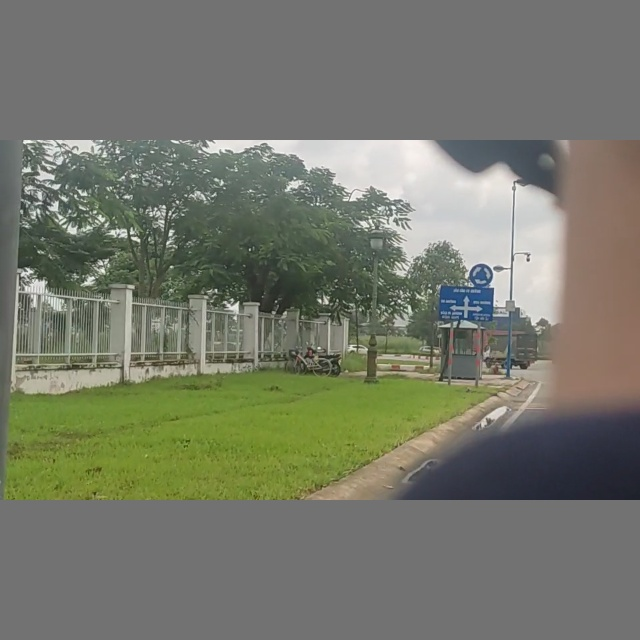R.303: (468, 261, 495, 287)
